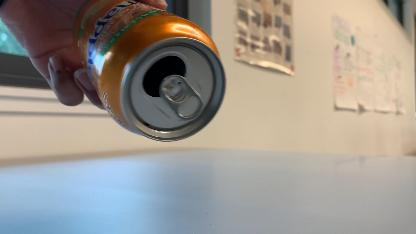Can: (58, 0, 228, 150)
